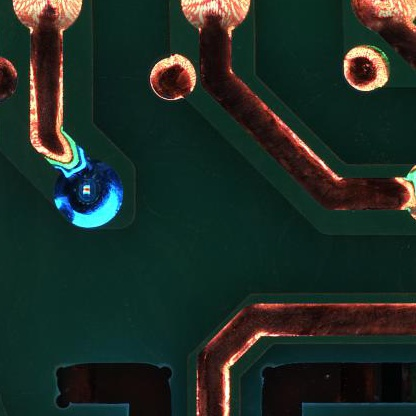spot: (53, 157, 126, 231)
